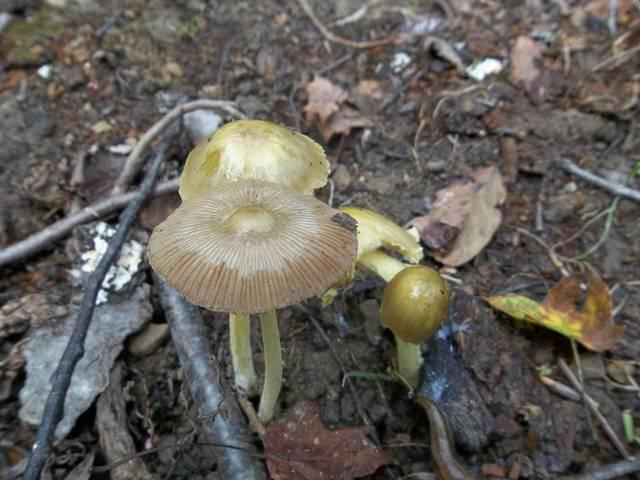Edible Mushroom: (145, 110, 366, 320), (375, 250, 467, 359)
